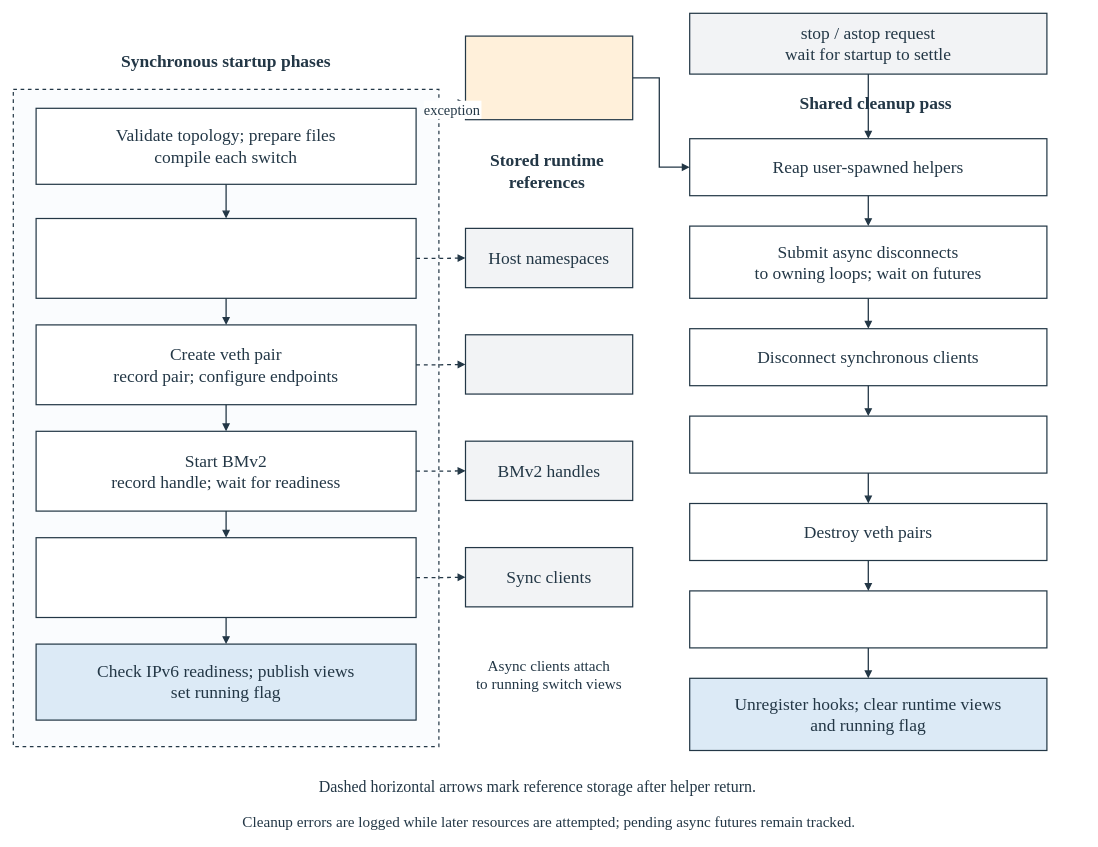
Image size: 1098x847. Some labels were removed from this diagram. The shapes that lost their labels are listed below. From the top down, each one's box as (x1, y1, x2, y2) in pixels, then its label:
(465, 35, 633, 120): Startup exception clean up; re-raise
(35, 218, 416, 299): Register cleanup hooks create namespace; record; configure
(465, 334, 633, 394): Veth pairs
(689, 415, 1047, 473): Stop BMv2 processes
(35, 537, 416, 618): Connect synchronous client record client; load pipeline
(689, 590, 1047, 648): Remove host namespaces
